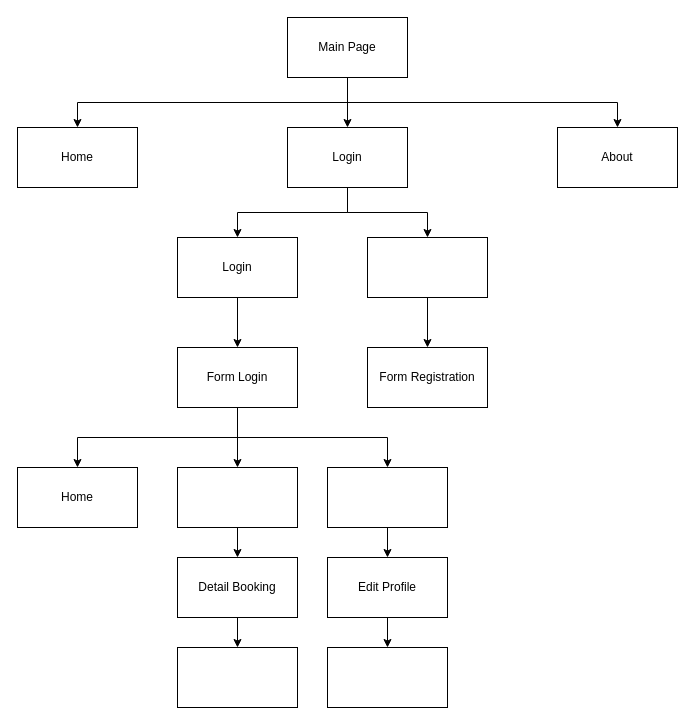
The diagram is 695 pixels wide and 725 high, and some of its shapes have lost their labels. The box of each missing label's shape, as (x1, y1, x2, y2) in pixels:
Booking: (176, 466, 298, 528)
Confirm Booking: (176, 646, 298, 708)
Logout: (326, 646, 448, 708)
Profil: (326, 466, 448, 528)
Register: (366, 236, 488, 298)
